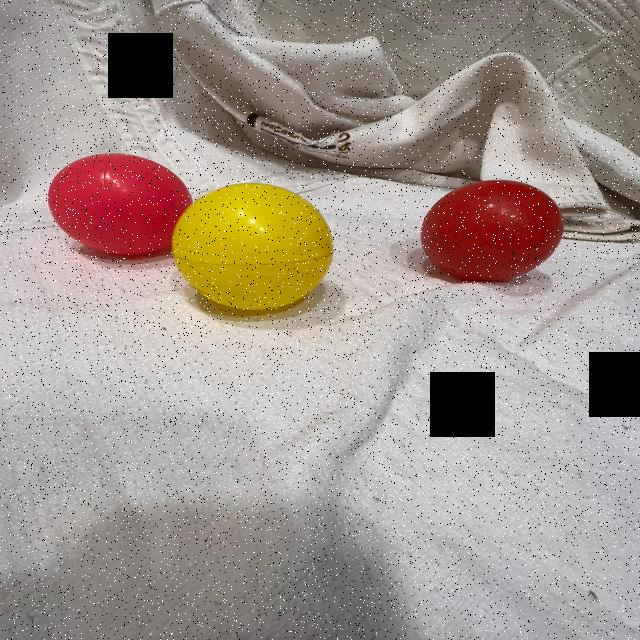ball: (170, 179, 337, 313), (417, 178, 566, 284), (44, 153, 182, 258)
